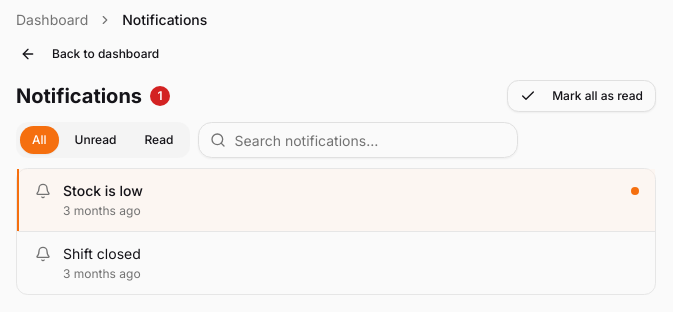
Test: NotificationsPage › filters the list to unread notifications only via the read-status tabs
expect the text "Stock is low" is shown: met, box [63,182,143,199]
expect the text "Shift closed" is shown: met, box [63,245,141,262]
Click the button "Unread" at x=96, y=140, box [63,126,128,154]
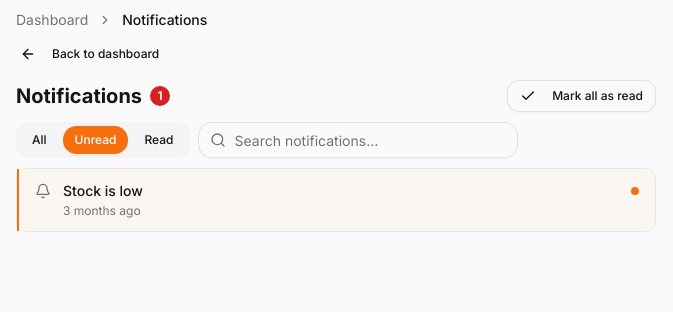
expect the text "Stock is low" is shown: met, box [63,182,143,199]
expect the button "Shift closed" is gone: met
